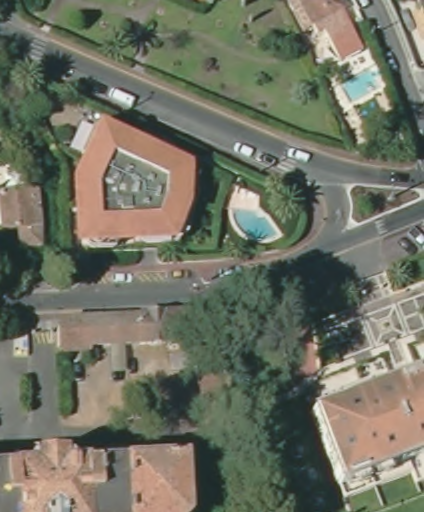pool: (231, 205, 281, 243), (342, 69, 383, 104)
